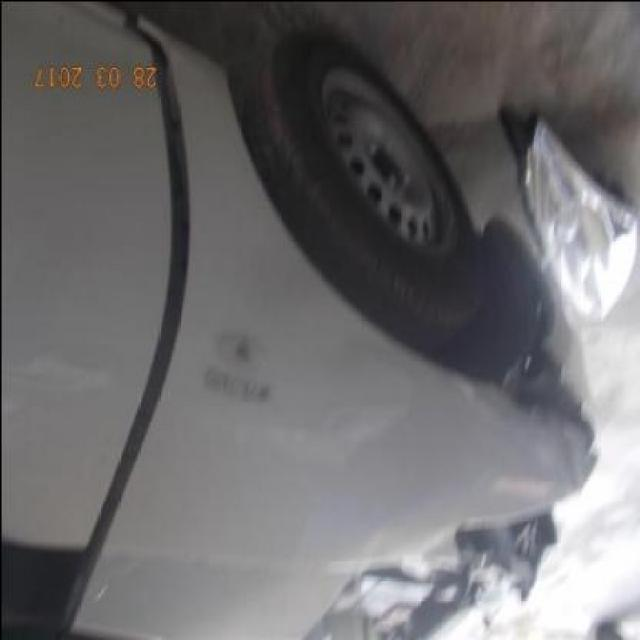damage: (67, 8, 192, 556)
